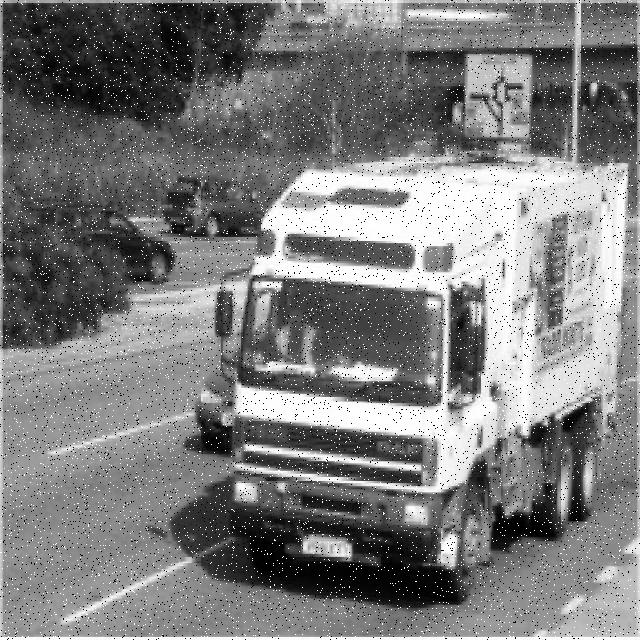Truck- Multi-Axle: (214, 153, 629, 603)
